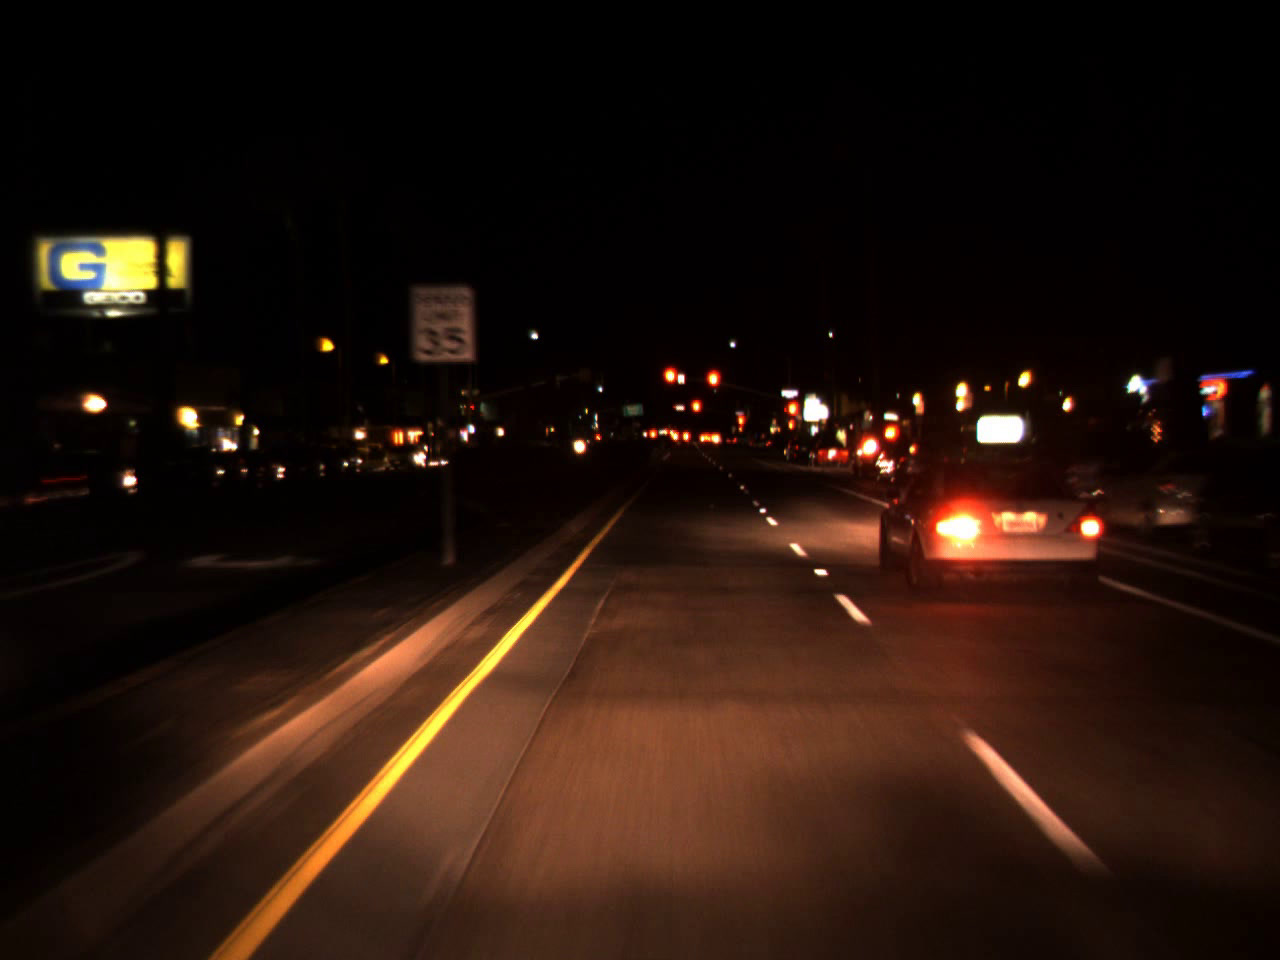stop: (705, 367, 723, 407), (785, 398, 800, 435), (689, 397, 702, 429), (664, 368, 676, 395), (733, 412, 745, 436)
